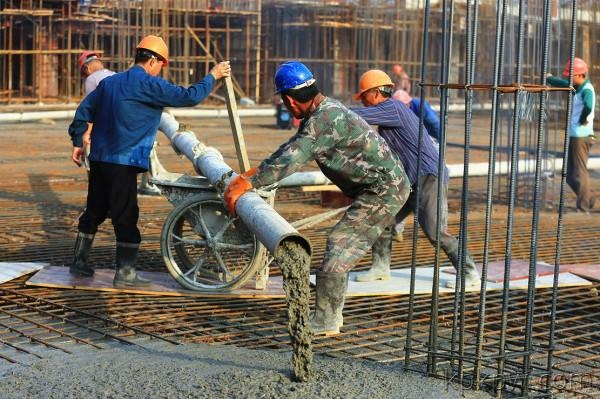blue: (267, 60, 322, 117)
red: (560, 54, 592, 89), (75, 49, 105, 80)
yellow: (350, 67, 395, 107), (132, 33, 169, 81)
